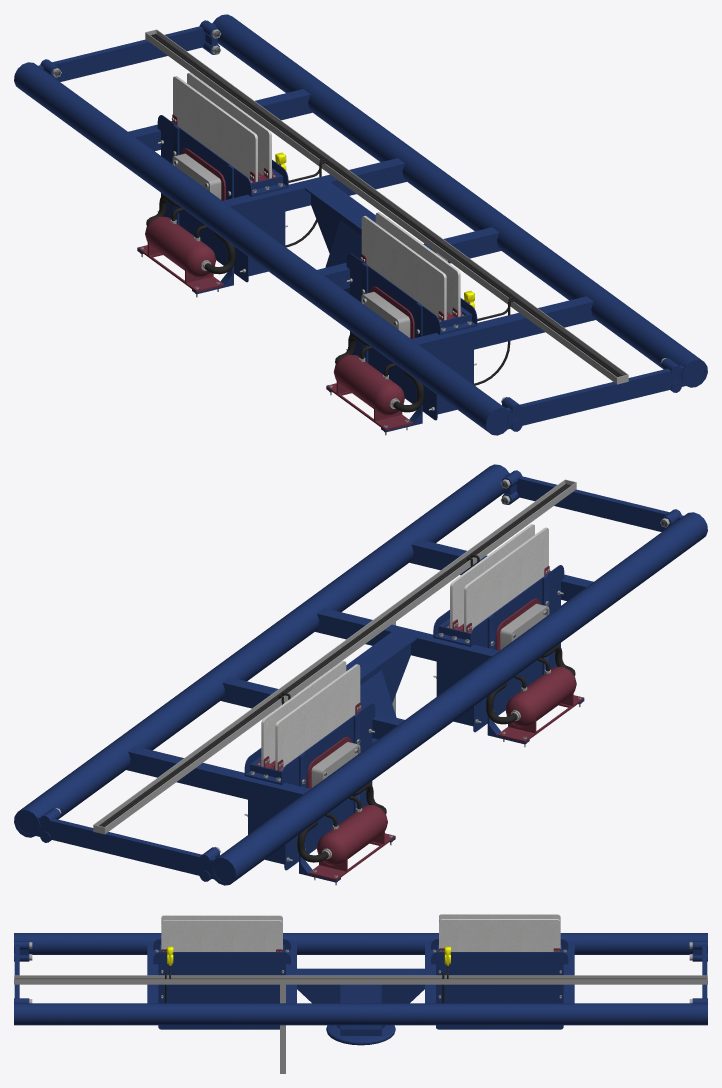
Rendered from Trim Section (Retractable).dae.
The picture shows the model from 3 angles, top to bottom: view 1: azimuth 30°, elevation 25°; view 2: azimuth 150°, elevation 25°; view 3: azimuth 270°, elevation 25°; orthographic projection. The views are drawn at different scales.
Visible parts, largest first — view 1: Track (×7), Mid_Detail (×4), Fins (×4), High_Detail (×6); view 2: Track (×7), Mid_Detail (×4), Fins (×4), High_Detail (×6); view 3: Track (×6), Mid_Detail (×4), Fins (×4), High_Detail.
Part boxes in pixels (bbox=[...]): Track (×7): bbox=[14, 14, 707, 435]; Mid_Detail (×4): bbox=[145, 29, 628, 420]; Fins (×4): bbox=[173, 72, 460, 320]; High_Detail (×6): bbox=[137, 33, 622, 430]; Track (×7): bbox=[14, 464, 707, 885]; Mid_Detail (×4): bbox=[93, 479, 576, 870]; Fins (×4): bbox=[261, 524, 548, 770]; High_Detail (×6): bbox=[99, 483, 584, 880]; Track (×6): bbox=[14, 933, 707, 1045]; Mid_Detail (×4): bbox=[14, 939, 707, 1073]; Fins (×4): bbox=[161, 914, 560, 951]; High_Detail: bbox=[15, 978, 706, 979].
Bounding box in the file's own units: 53.48 × 197 × 40.52.
Materials: 12 (6 with a texture image).
